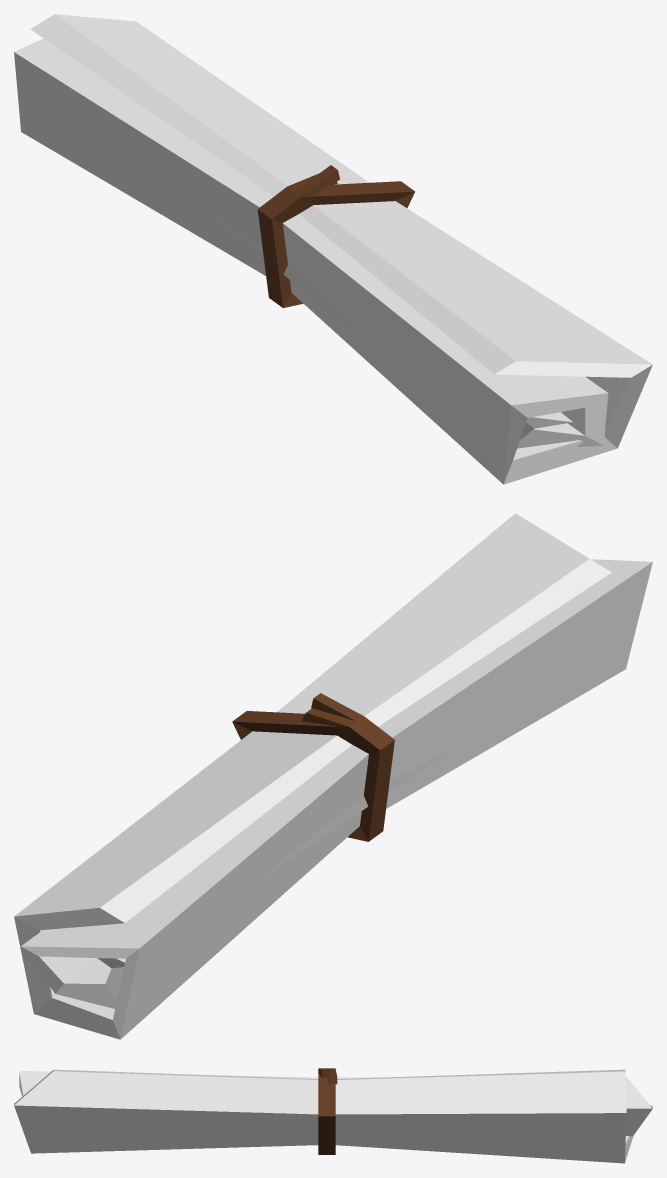
Rendered from paper05.obj.
3 views of the same model, one above another, from view 1: azimuth 30°, elevation 25°; view 2: azimuth 150°, elevation 25°; view 3: azimuth 270°, elevation 25° (orthographic). The views are drawn at different scales.
Parts seen in each view (by area): view 1: Cube_Cube.001; view 2: Cube_Cube.001; view 3: Cube_Cube.001.
Boxes of the visible parts, bbox=[...] form: Cube_Cube.001: bbox=[14, 14, 652, 484]; Cube_Cube.001: bbox=[14, 513, 652, 1039]; Cube_Cube.001: bbox=[14, 1068, 652, 1163].
Size of the model in its own units: 0.0411 by 0.0361 by 0.2499.
